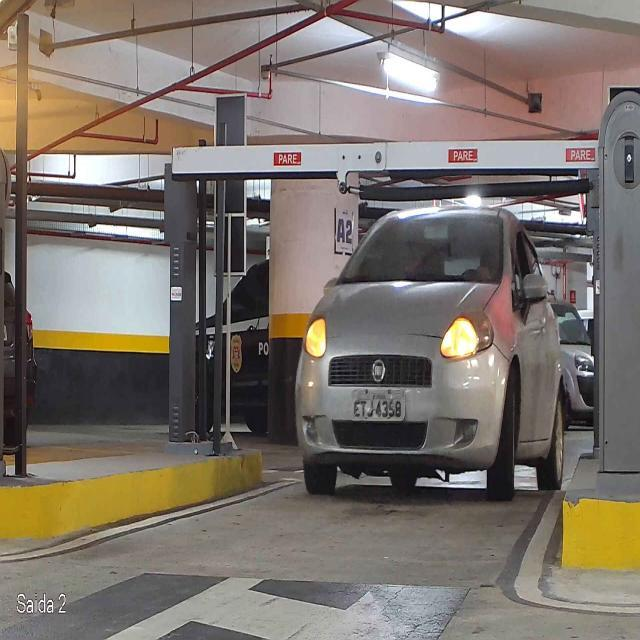old_plate: (350, 387, 407, 423)
